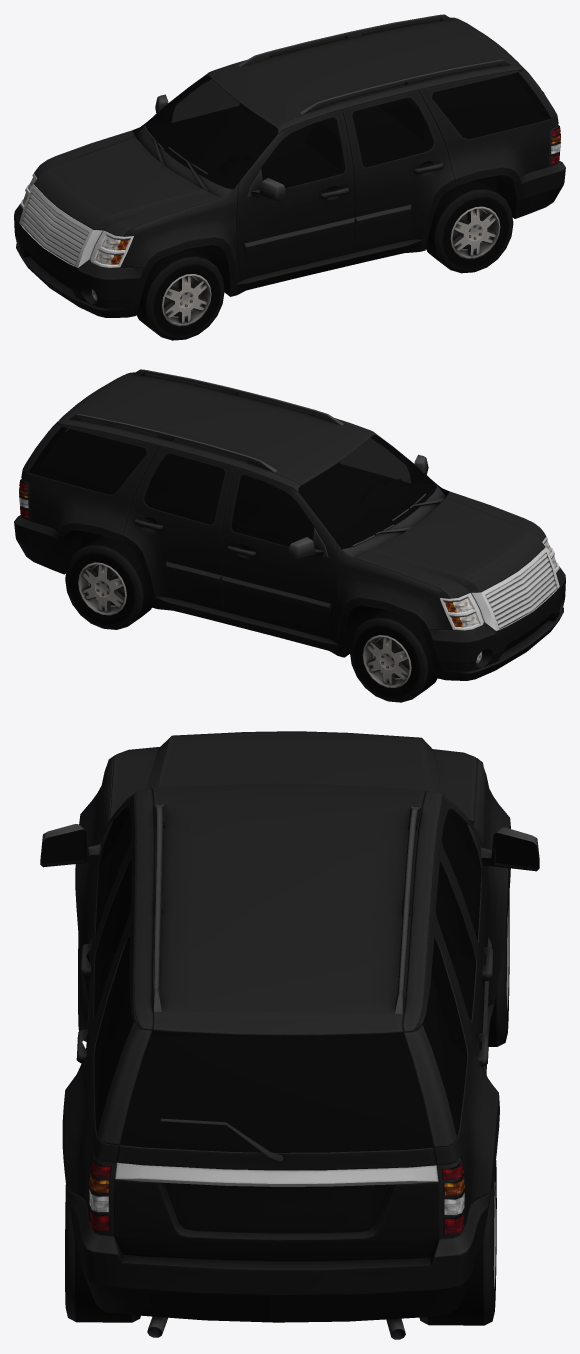
File: suv.glb
The picture shows the model from 3 angles, top to bottom: view 1: azimuth 30°, elevation 25°; view 2: azimuth 150°, elevation 25°; view 3: azimuth 270°, elevation 25°; orthographic projection. The views are drawn at different scales.
Visible parts, largest first — view 1: SUV Body_Body_0.001, SUV Body_Glass_0.001, Wheel_E001_Wheel_0.002, Wheel_E_Wheel_0.002, SUV Body_Optics_0.001; view 2: SUV Body_Body_0.001, SUV Body_Glass_0.001, Wheel_E003_Wheel_0.002, Wheel_E002_Wheel_0.002, SUV Body_Optics_0.001; view 3: SUV Body_Body_0.001, SUV Body_Glass_0.001, Wheel_E003_Wheel_0.002, SUV Body_Optics_0.001, Wheel_E001_Wheel_0.002, Wheel_E002_Wheel_0.002.
Part boxes in pixels (left/top/right/bottom): SUV Body_Body_0.001: left=14, top=14, right=565, bottom=317; SUV Body_Glass_0.001: left=145, top=65, right=550, bottom=189; Wheel_E001_Wheel_0.002: left=426, top=180, right=513, bottom=273; Wheel_E_Wheel_0.002: left=136, top=248, right=224, bottom=340; SUV Body_Optics_0.001: left=22, top=125, right=560, bottom=300; SUV Body_Body_0.001: left=14, top=369, right=565, bottom=680; SUV Body_Glass_0.001: left=29, top=421, right=436, bottom=549; Wheel_E003_Wheel_0.002: left=65, top=536, right=151, bottom=629; Wheel_E002_Wheel_0.002: left=350, top=609, right=437, bottom=702; SUV Body_Optics_0.001: left=19, top=479, right=557, bottom=663; SUV Body_Body_0.001: left=40, top=731, right=539, bottom=1339; SUV Body_Glass_0.001: left=94, top=807, right=481, bottom=1152; Wheel_E003_Wheel_0.002: left=419, top=1160, right=496, bottom=1325; SUV Body_Optics_0.001: left=89, top=1159, right=464, bottom=1234; Wheel_E001_Wheel_0.002: left=65, top=1185, right=140, bottom=1322; Wheel_E002_Wheel_0.002: left=488, top=893, right=509, bottom=1046.
Bounding box in the file's own units: 4.61 × 1.73 × 2.07.
Materials: 4 (3 with a texture image).
